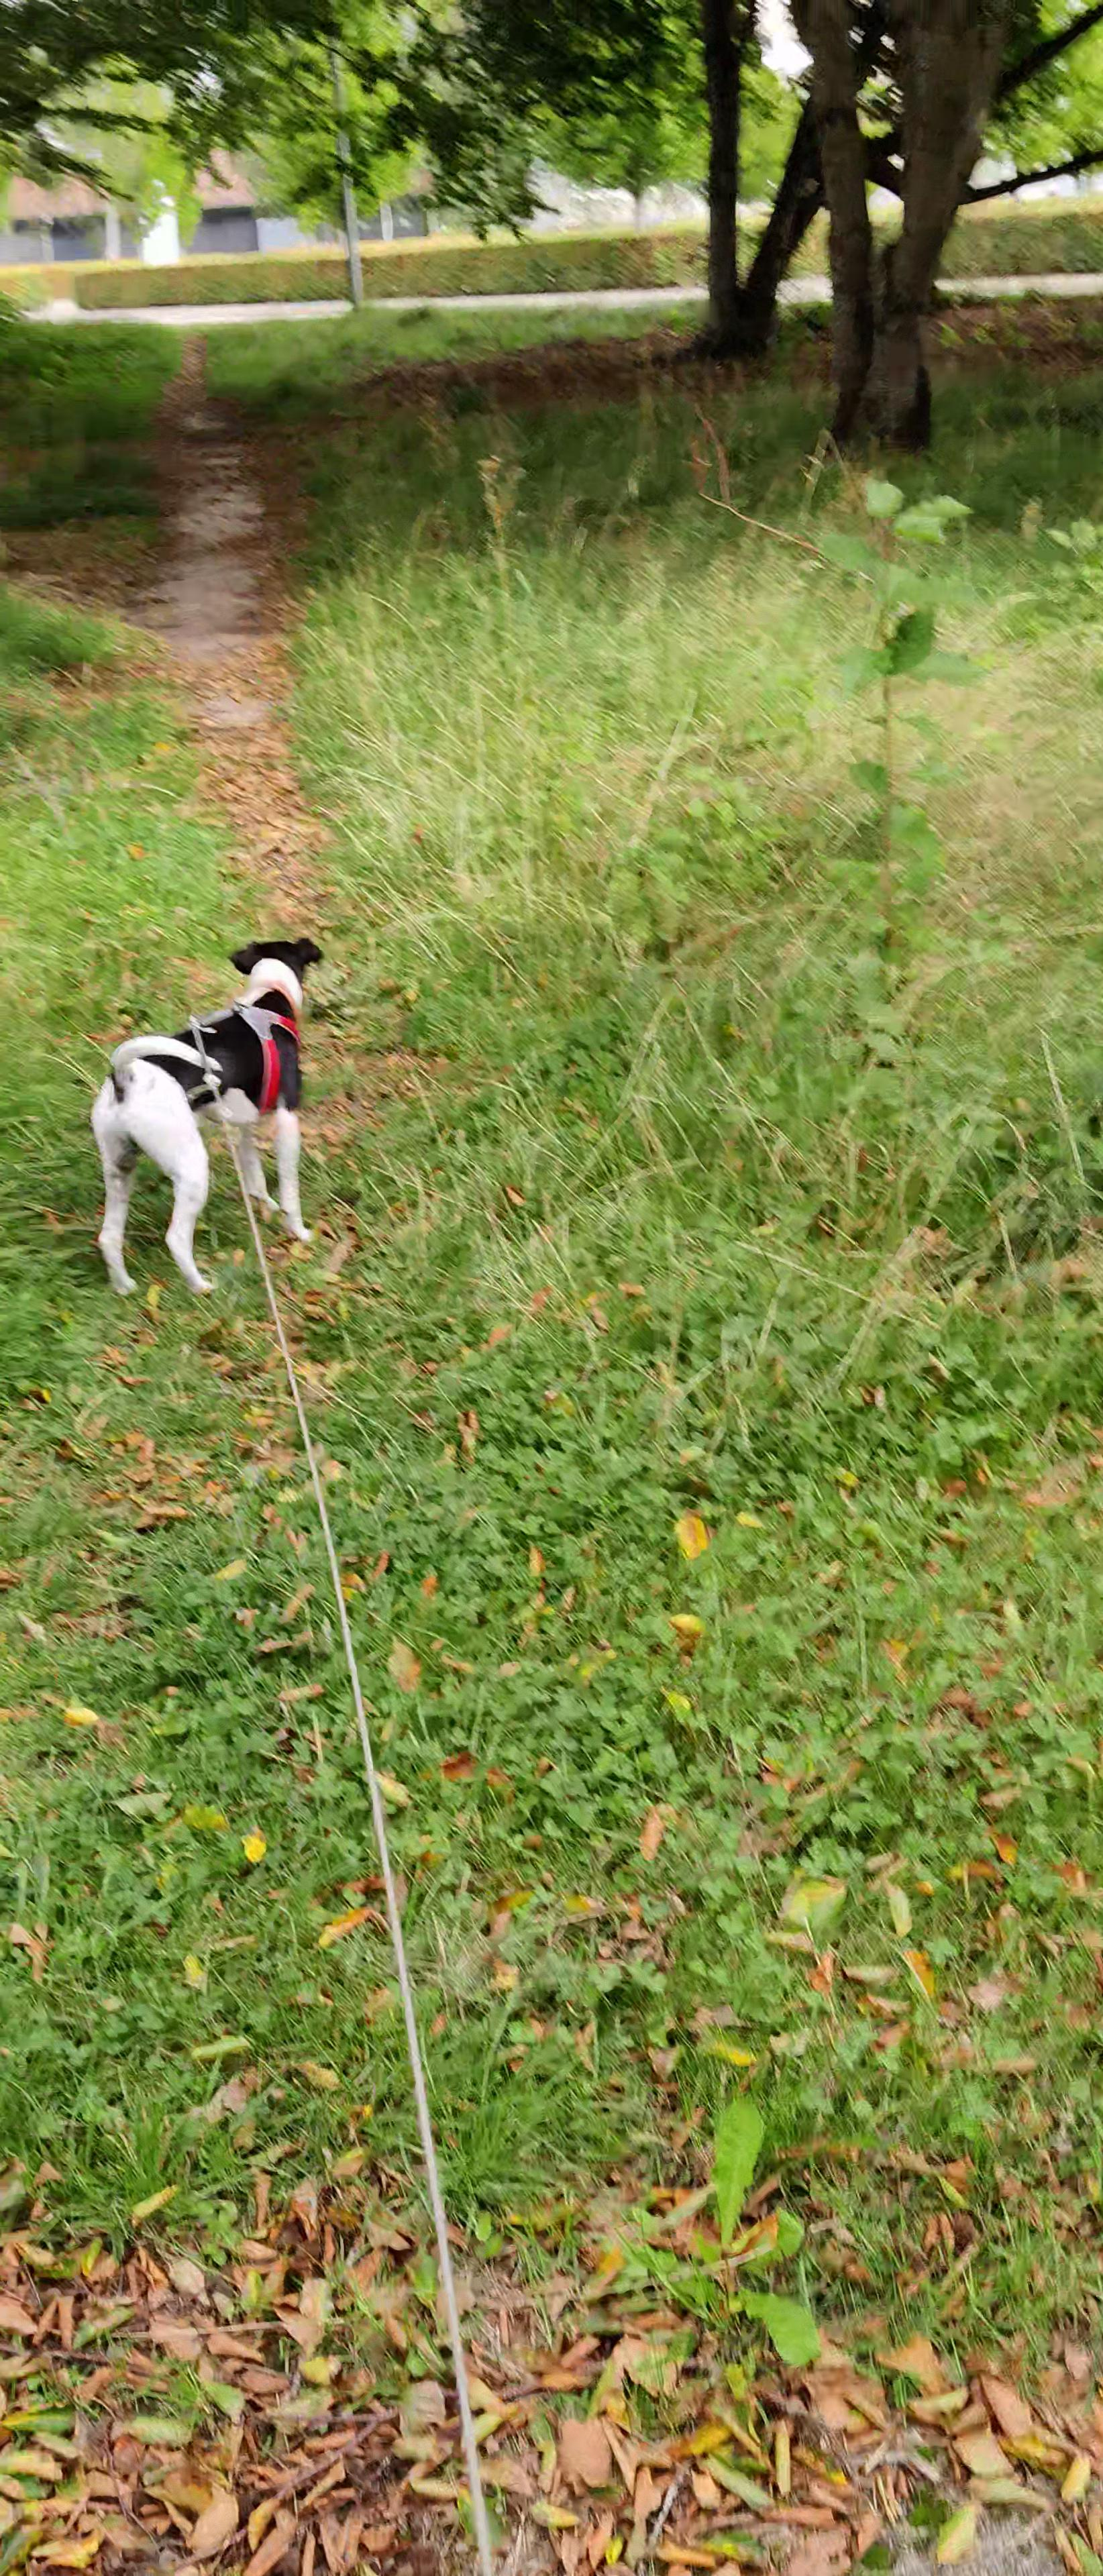Dog: (56, 923, 345, 1293)
